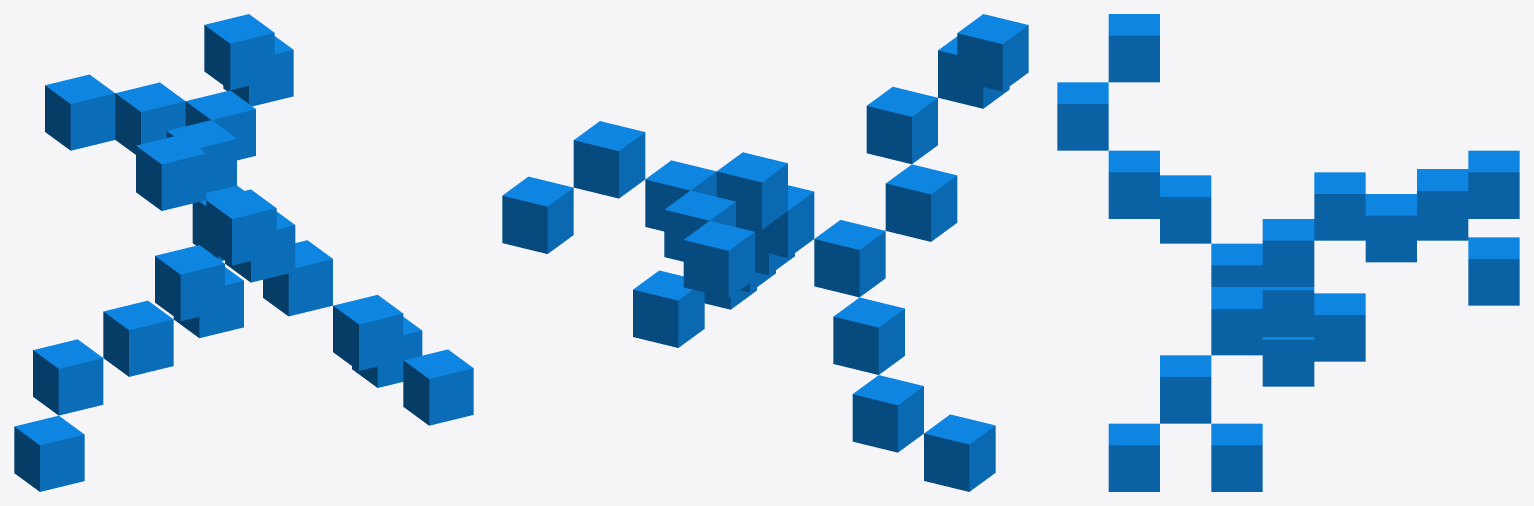
File: VoxelEffects_Electro_03.FBX
3 renders of one model, left to right at view 1: azimuth 30°, elevation 25°; view 2: azimuth 150°, elevation 25°; view 3: azimuth 270°, elevation 25°, orthographic.
Parts seen in each view (by area): view 1: VoxelEffects_Electro_03; view 2: VoxelEffects_Electro_03; view 3: VoxelEffects_Electro_03.
Part boxes in pixels (x1,y1,x2,y2): VoxelEffects_Electro_03: (14, 14, 473, 491); VoxelEffects_Electro_03: (502, 14, 1028, 491); VoxelEffects_Electro_03: (1057, 14, 1519, 491).
Size of the model in its own units: 80 by 80 by 90.
